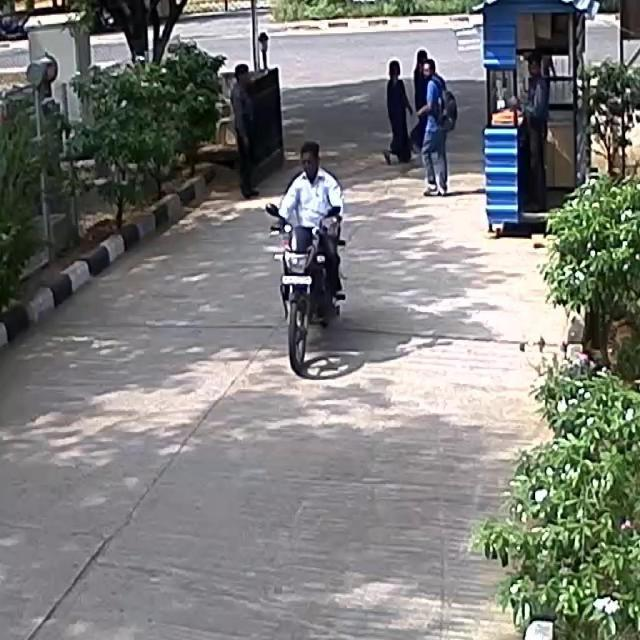without helmet: (296, 139, 320, 183)
